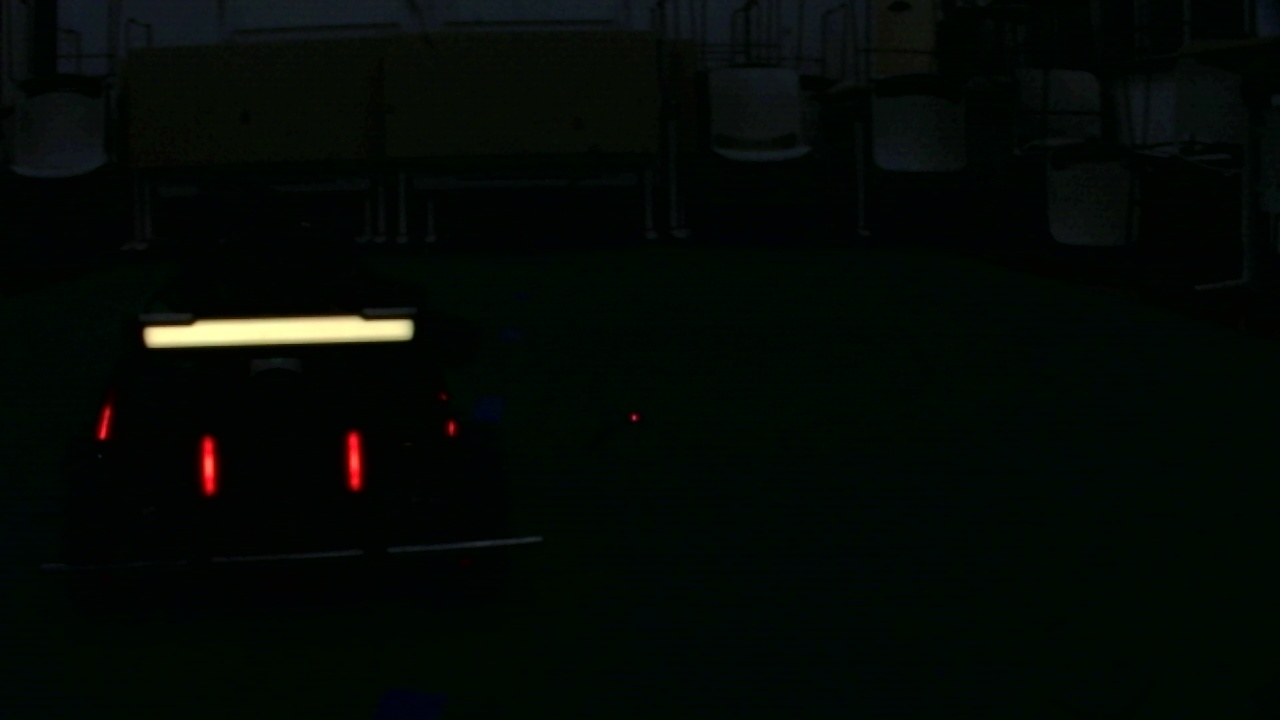lamp: (343, 429, 364, 499), (198, 431, 218, 499)
pair1: (200, 433, 364, 499)
